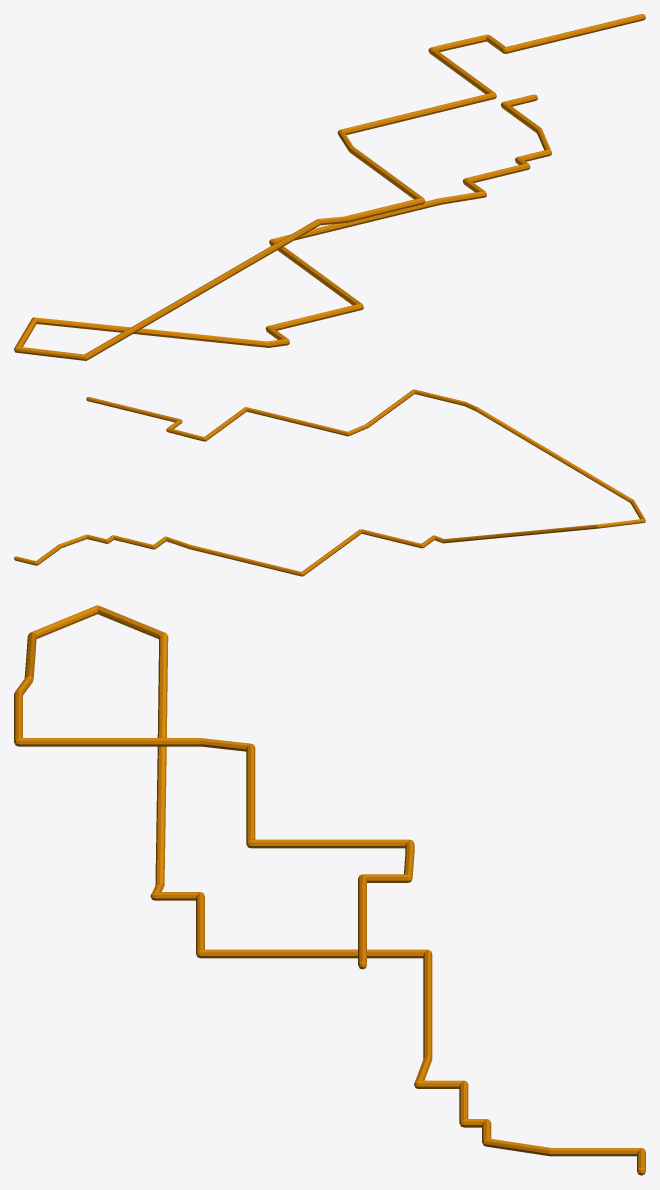
3 views of the same model, one above another, from view 1: azimuth 30°, elevation 25°; view 2: azimuth 150°, elevation 25°; view 3: azimuth 270°, elevation 25° (orthographic). The views are drawn at different scales.
Bounding box in the file's own units: 2406 × 520 × 1390.
